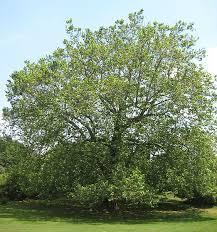tree: (5, 9, 215, 214)
